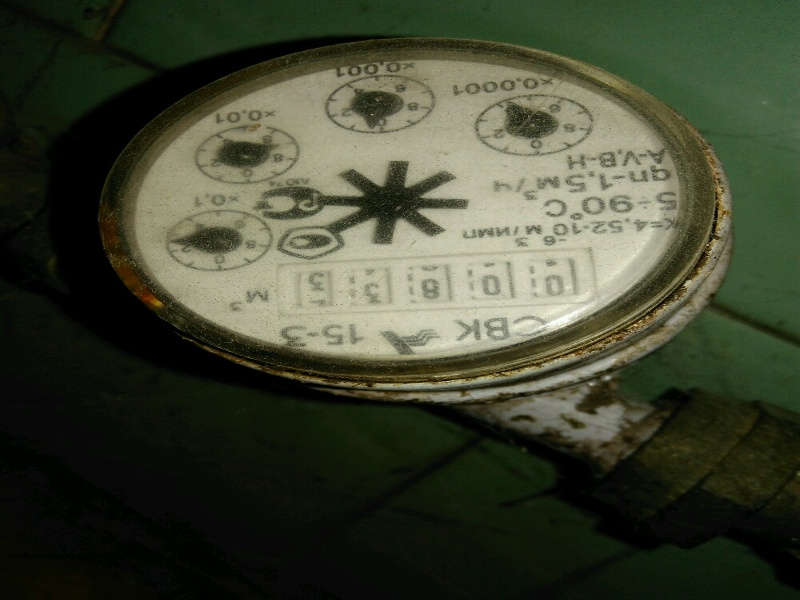dial: (272, 267, 588, 300)
